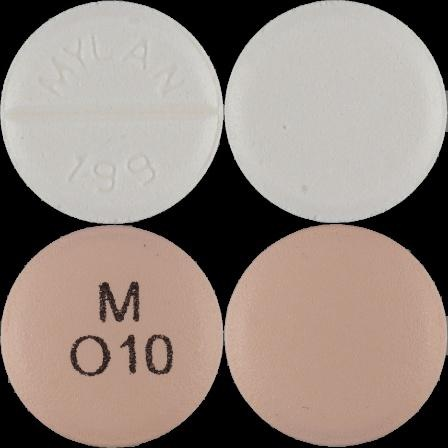55154-6297: (0, 0, 224, 224)
